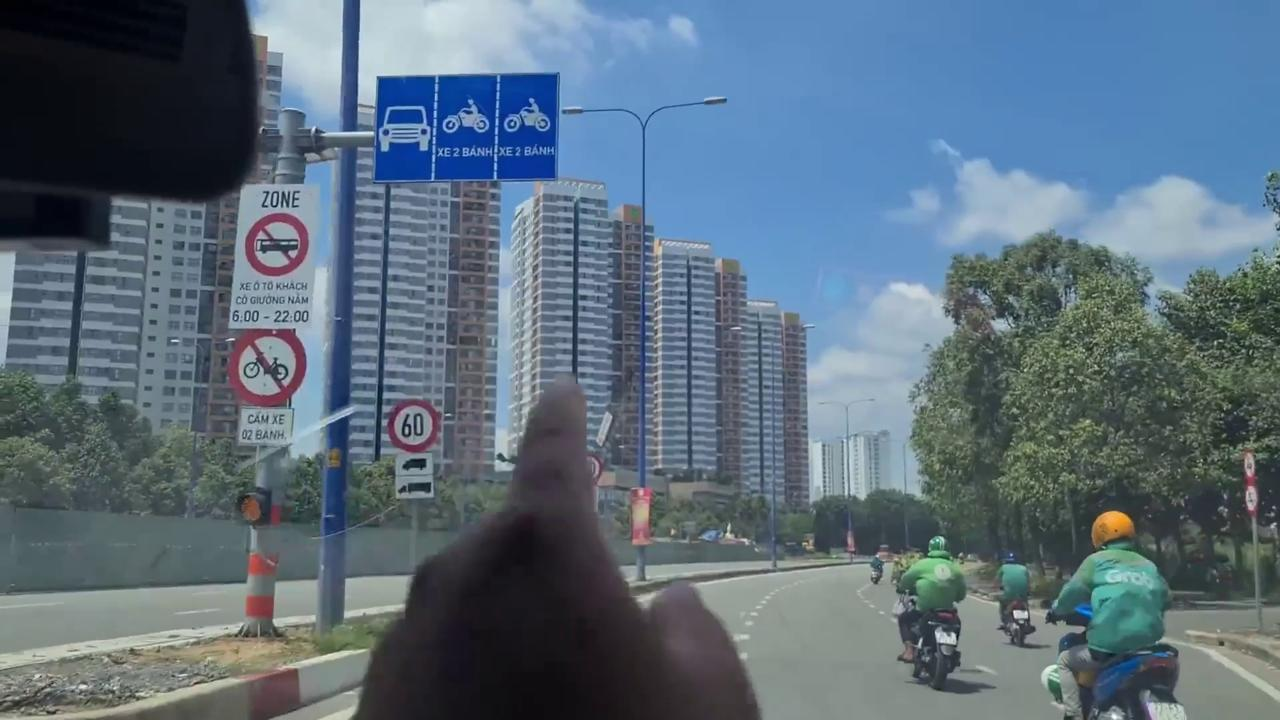Biển phụ: (236, 405, 295, 448), (394, 452, 436, 498)
Cấm cac phương tiện hoạt động trong khung giờ cố định: (227, 180, 314, 330)
Cấm xe máy: (226, 323, 310, 407)
GIơi hạn tốc độ 60Km/h: (388, 397, 440, 452)
Làn đường cho từng xe: (369, 72, 557, 184)
